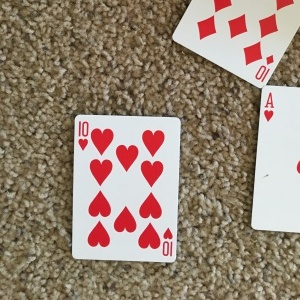card: (72, 113, 183, 262)
